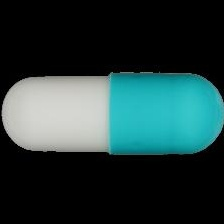16590-580: (0, 0, 224, 224)
